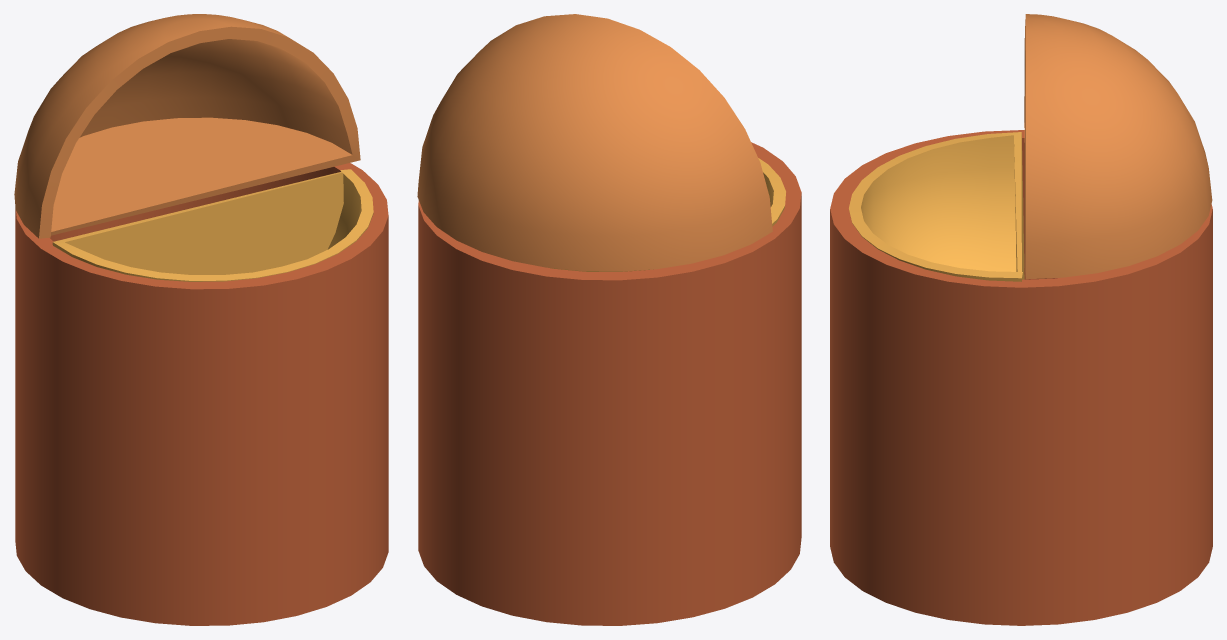
The model's file is kosz.gltf.
3 renders of one model, left to right at view 1: azimuth 30°, elevation 25°; view 2: azimuth 150°, elevation 25°; view 3: azimuth 270°, elevation 25°, orthographic. The views are drawn at different scales.
Parts seen in each view (by area): view 1: Cylinder.001, Sphere.003, Sphere.001; view 2: Cylinder.001, Sphere.003, Sphere.001; view 3: Cylinder.001, Sphere.003, Sphere.001.
Part boxes in pixels (bbox=[...]): Cylinder.001: bbox=[15, 163, 388, 625]; Sphere.003: bbox=[14, 14, 360, 238]; Sphere.001: bbox=[52, 169, 373, 281]; Cylinder.001: bbox=[418, 142, 801, 625]; Sphere.003: bbox=[417, 14, 772, 271]; Sphere.001: bbox=[550, 158, 785, 271]; Cylinder.001: bbox=[830, 130, 1212, 625]; Sphere.003: bbox=[1024, 14, 1212, 279]; Sphere.001: bbox=[849, 132, 1024, 281].
Bounding box in the file's own units: 2 × 3.05 × 2.05.
2 materials, 2 textured.
